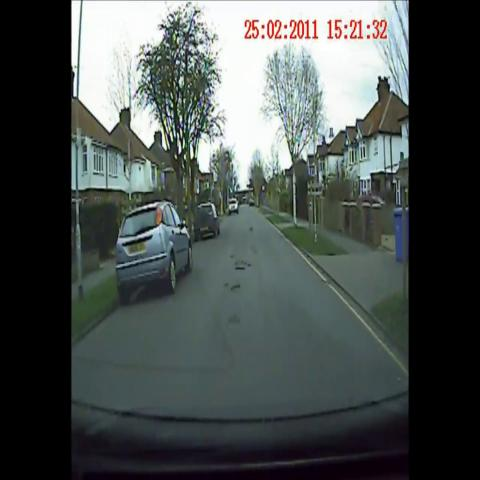pothole: (226, 247, 255, 273), (220, 272, 246, 300), (245, 221, 257, 243)
